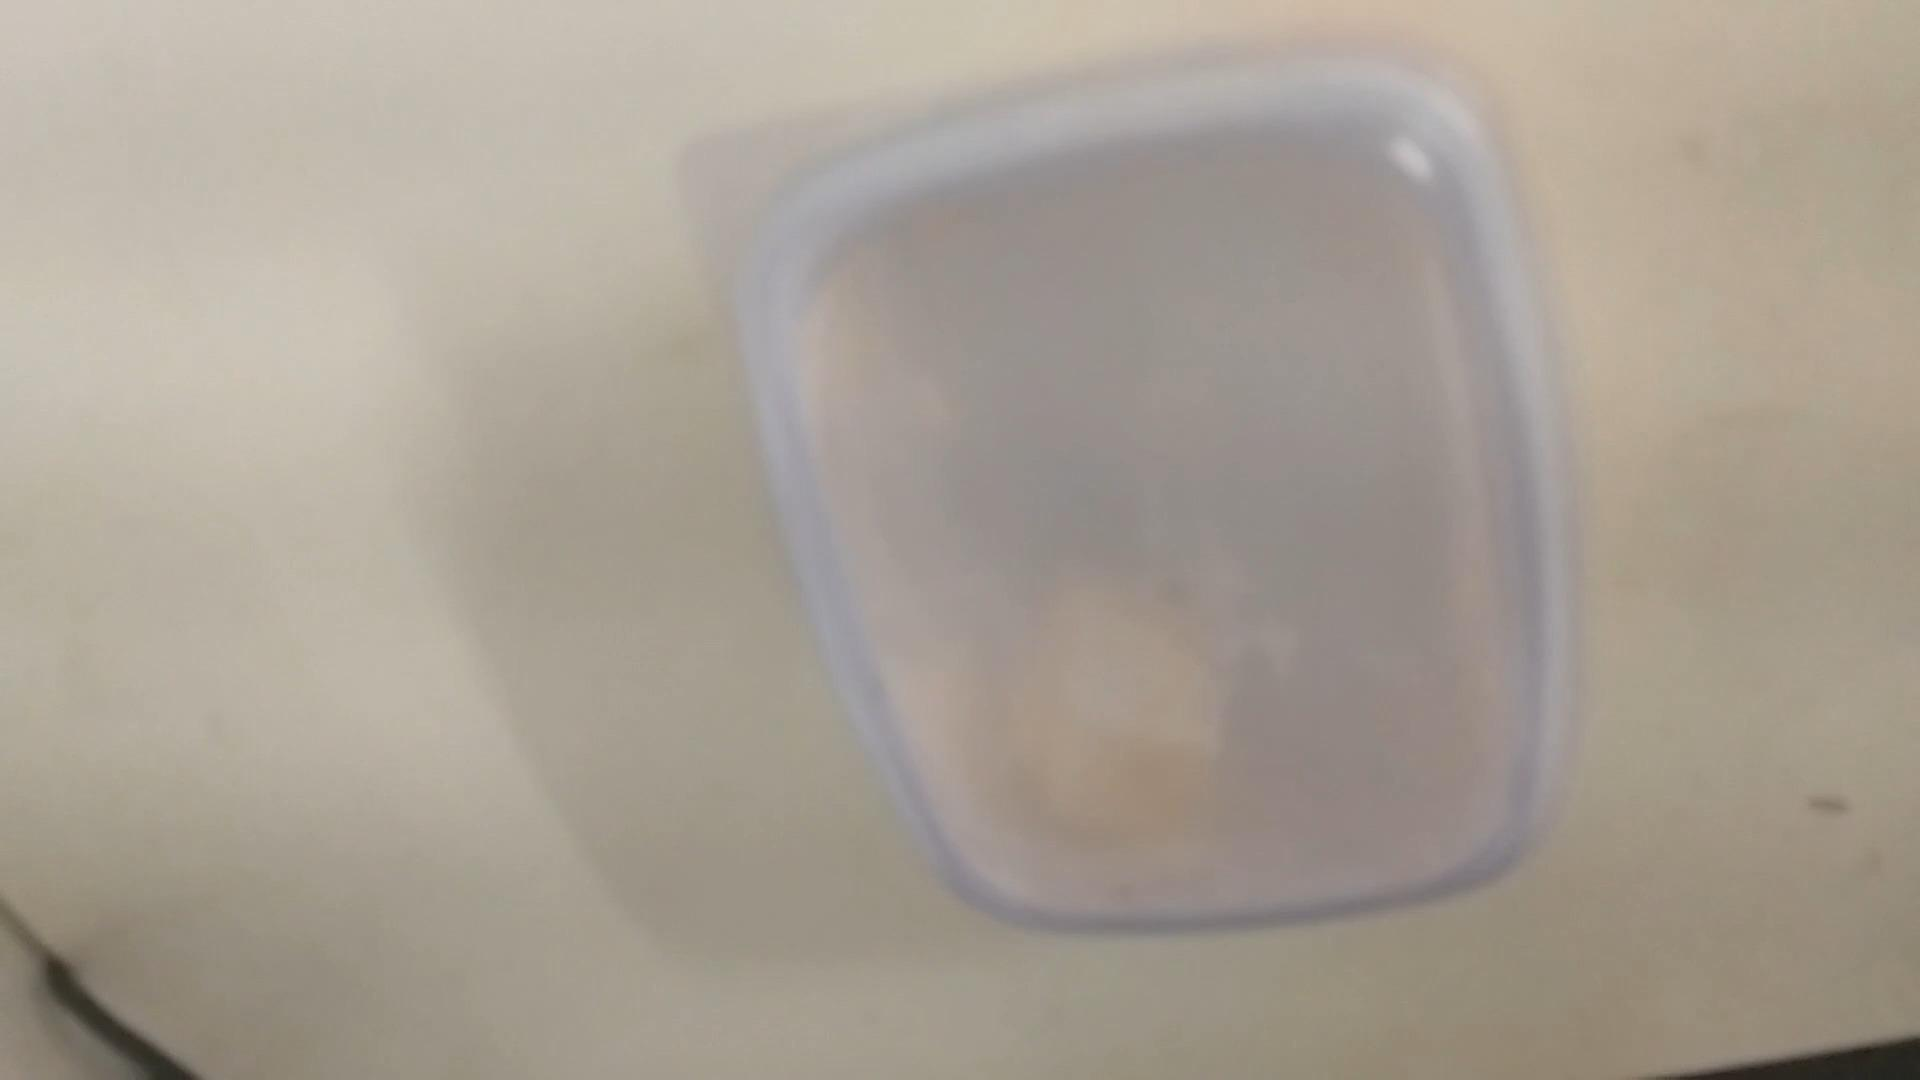butter: (741, 58, 1572, 945)
